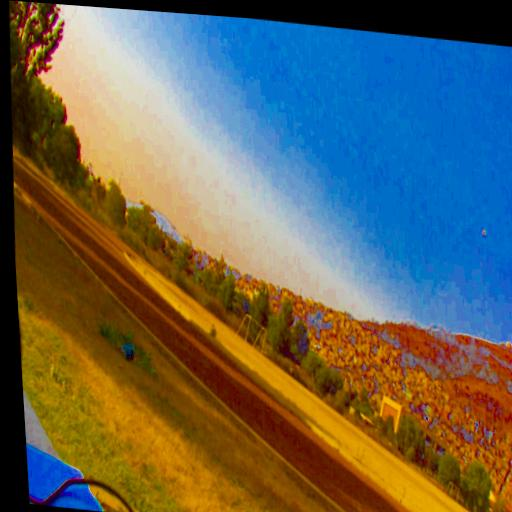drones: (479, 226, 489, 240)
